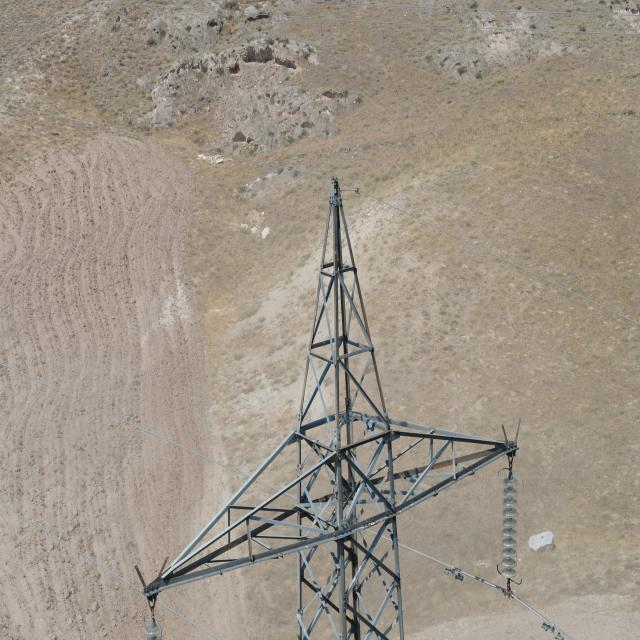direk: (290, 189, 409, 640)
